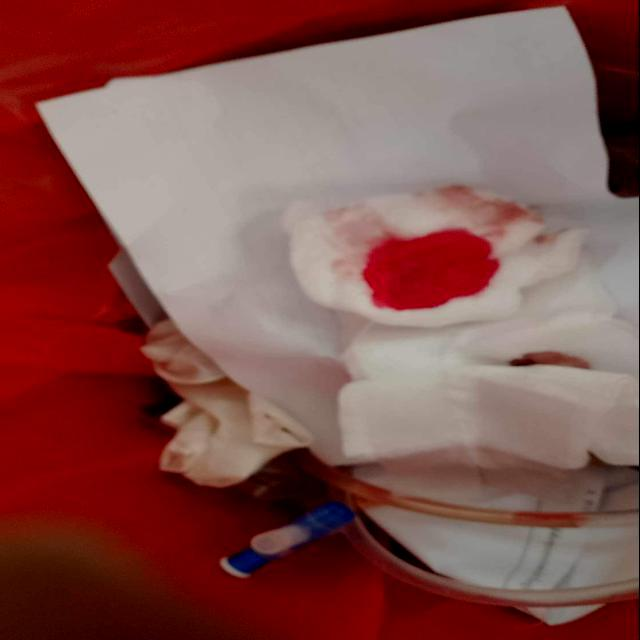General: (34, 3, 638, 625)
Infectious: (288, 181, 588, 329)
Sharps: (218, 498, 357, 580)
